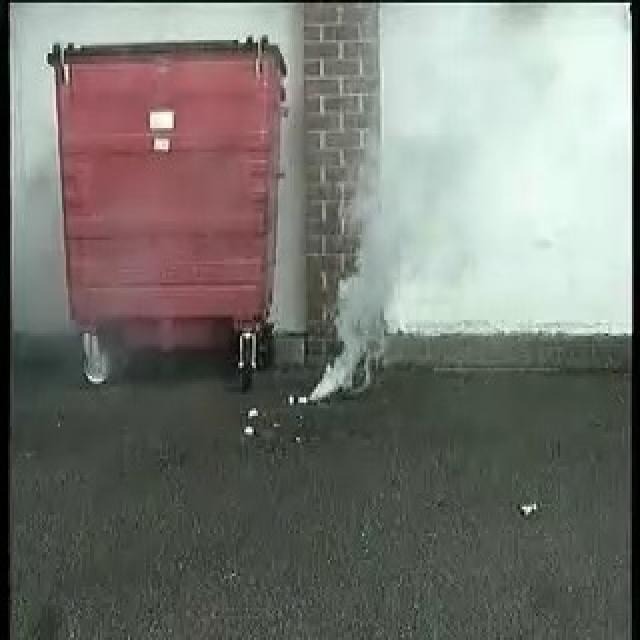smoke: (310, 175, 396, 402)
